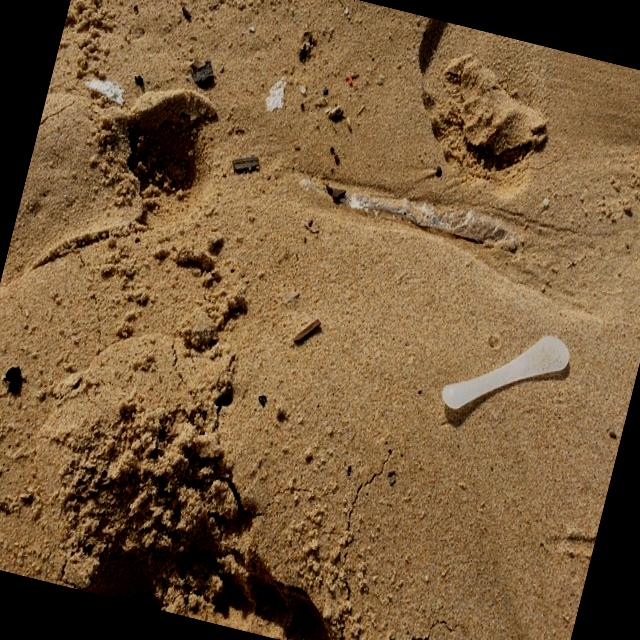Trash: (396, 288, 590, 441), (330, 172, 534, 255)
